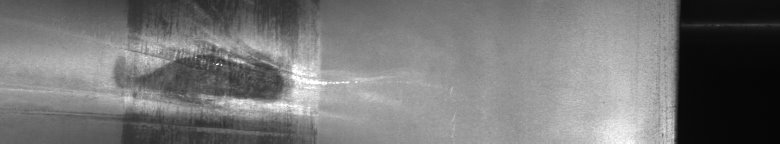ke: (66, 4, 366, 136)
